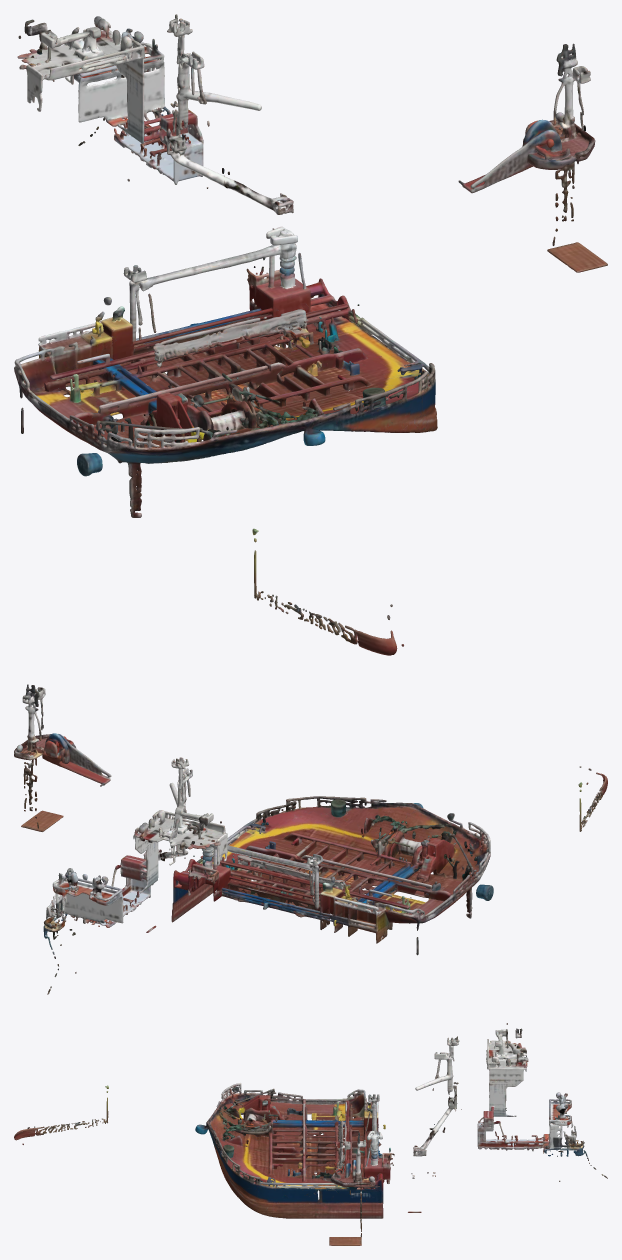
The model's file is logit-mean+fn2_2026-05-06T114111.911.glb.
The picture shows the model from 3 angles, top to bottom: view 1: azimuth 30°, elevation 25°; view 2: azimuth 150°, elevation 25°; view 3: azimuth 270°, elevation 25°; orthographic projection. The views are drawn at different scales.
Visible parts, largest first — view 1: world; view 2: world; view 3: world.
Part boxes in pixels (x1,y1,x2,y2): world: (14,14,607,655); world: (14,684,607,994); world: (14,1023,607,1245).
Size of the model in its own units: 0.5464 by 0.2767 by 0.9009.
1 material, 1 textured.
